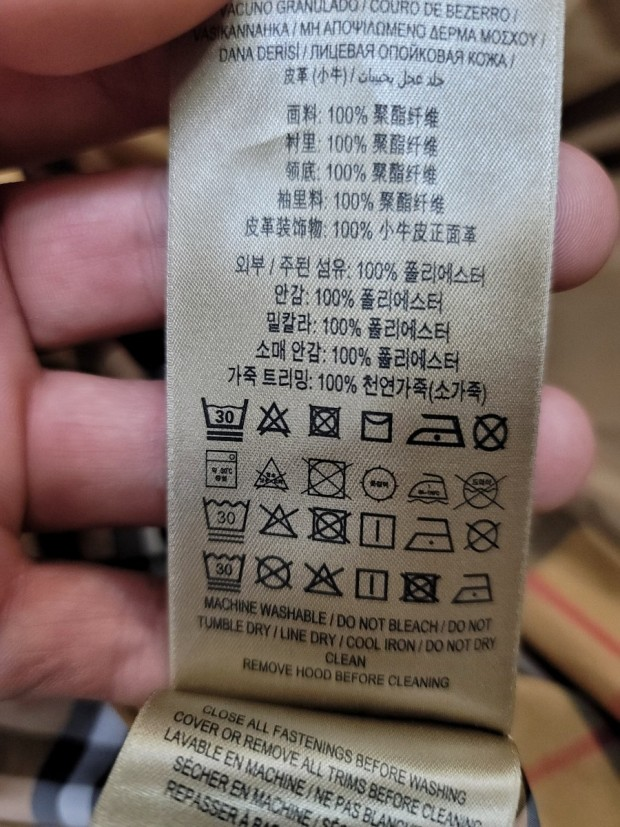ER_flat_dry: (357, 509, 399, 554), (351, 561, 393, 605)
ER_iron_low_temp: (405, 407, 467, 457), (401, 514, 458, 558), (451, 570, 497, 608)
ER_no_bleach: (301, 558, 348, 602), (259, 499, 299, 542), (255, 398, 291, 440)
ER_no_dry_clean: (469, 410, 513, 456), (252, 548, 295, 593), (464, 514, 504, 560)
ER_no_tumble_dry: (305, 397, 345, 448), (309, 503, 352, 550), (397, 566, 444, 609)
ER_wash_30_mild: (198, 392, 249, 444), (201, 496, 250, 544), (200, 546, 248, 594)
KR_hang_dry: (359, 463, 399, 506)
KR_iron_low_temp_with_cloth: (405, 465, 452, 510)
KR_no_bleach: (251, 453, 291, 495)
KR_no_dry_clean: (460, 468, 502, 513)
KR_no_tumble_dry: (303, 455, 353, 503)
KR_wash_warm_30_neutral: (202, 444, 243, 493)
